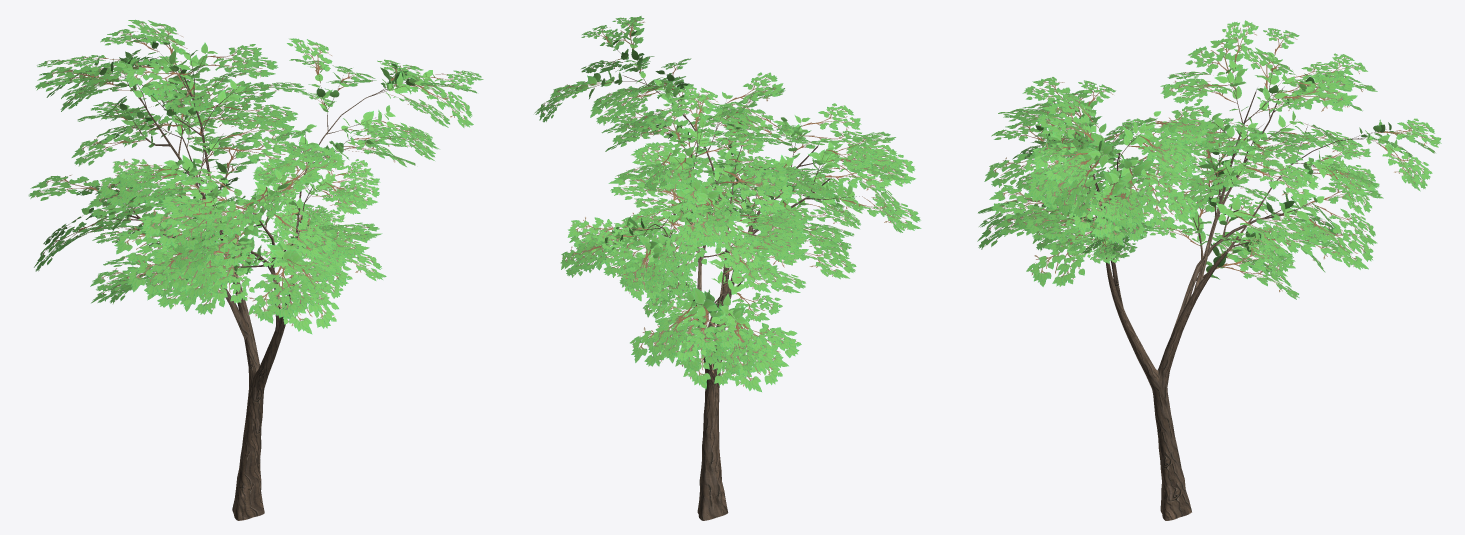
The model's file is Stylized_Broadleaf_001_4.fbx.
The picture shows the model from 3 angles, left to right: view 1: azimuth 30°, elevation 25°; view 2: azimuth 150°, elevation 25°; view 3: azimuth 270°, elevation 25°; orthographic projection. The views are drawn at different scales.
Parts seen in each view (by area): view 1: Stylized_Broadleaf_001_4; view 2: Stylized_Broadleaf_001_4; view 3: Stylized_Broadleaf_001_4.
Part boxes in pixels (box(x1,y1,x2,y2)): Stylized_Broadleaf_001_4: box(28, 19, 483, 520); Stylized_Broadleaf_001_4: box(534, 16, 921, 520); Stylized_Broadleaf_001_4: box(977, 20, 1441, 520).
Size of the model in its own units: 15.66 by 18.95 by 18.05.
Materials: 4 (3 with a texture image).
